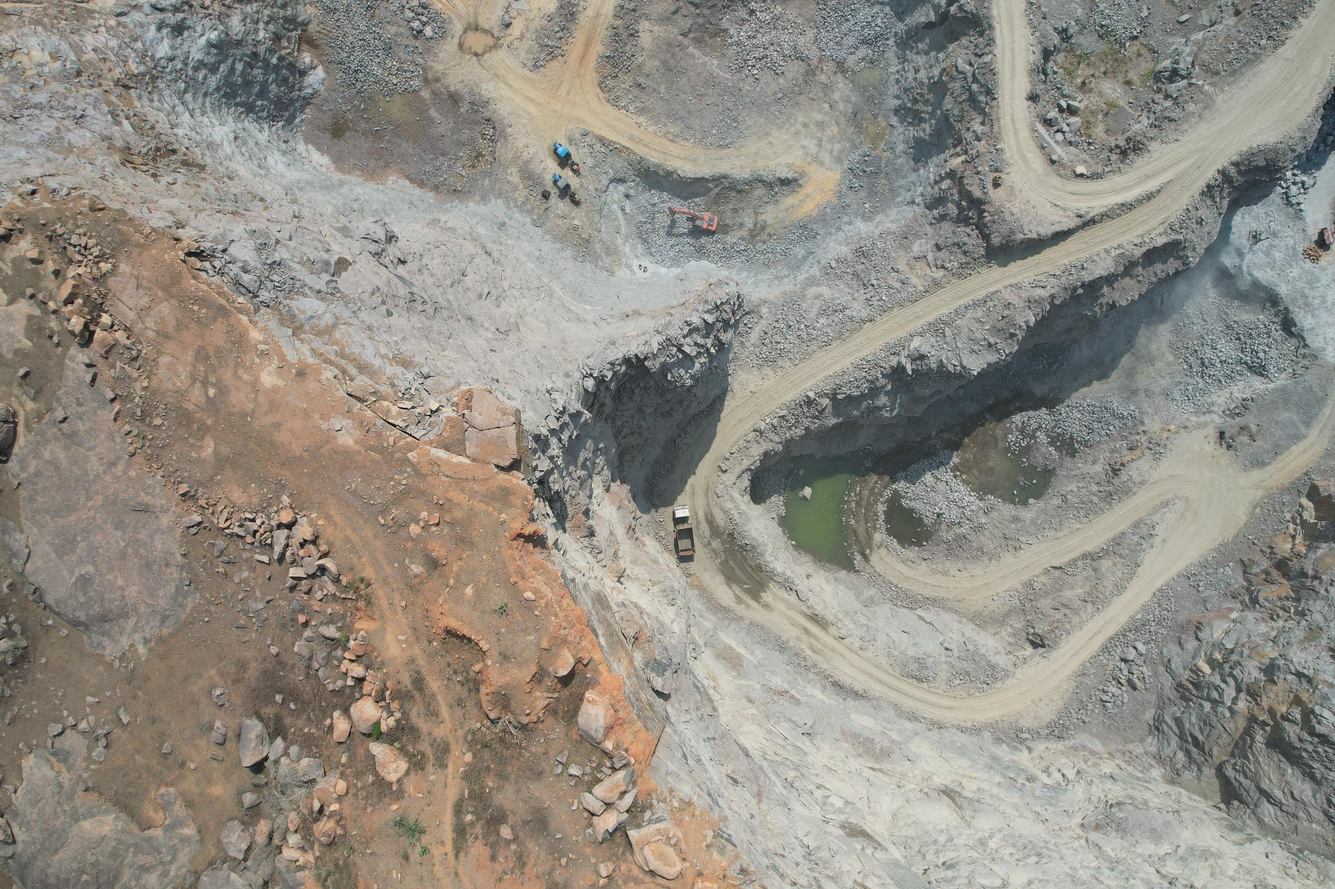benches: (678, 0, 1335, 558), (730, 395, 1335, 723), (468, 0, 838, 225), (1275, 0, 1335, 76), (870, 472, 891, 501)
excavator: (655, 204, 731, 237)
truck: (699, 0, 1335, 478), (675, 492, 698, 566)
